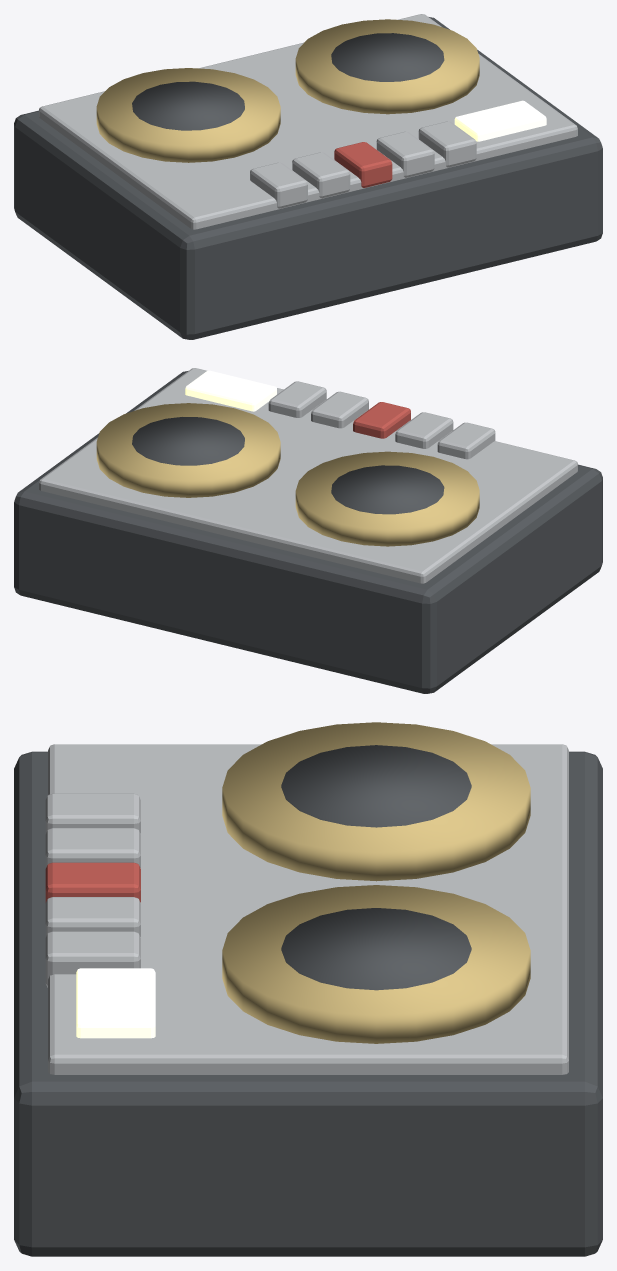
The model's file is tape_recorder.glb.
3 views of the same model, one above another, from view 1: azimuth 30°, elevation 25°; view 2: azimuth 150°, elevation 25°; view 3: azimuth 270°, elevation 25° (orthographic). The views are drawn at different scales.
Visible parts, largest first — view 1: DeckChassis, FacePlate, Reel_0.085, Reel_-0.085, TapeHub_-0.085, TapeHub_0.085, VUMeter, Key_1, Key_3, Key_2, Key_4, Key_0; view 2: DeckChassis, FacePlate, Reel_-0.085, Reel_0.085, TapeHub_-0.085, TapeHub_0.085, VUMeter, Key_0, Key_1, Key_4, Key_3, Key_2; view 3: DeckChassis, FacePlate, Reel_-0.085, Reel_0.085, TapeHub_-0.085, TapeHub_0.085, VUMeter, Key_4, Key_1, Key_3, Key_0, Key_2.
Boxes of the visible parts, <box> form: DeckChassis: <box>14,17,602,339</box>; FacePlate: <box>39,14,577,229</box>; Reel_0.085: <box>295,19,479,114</box>; Reel_-0.085: <box>96,68,280,162</box>; TapeHub_-0.085: <box>132,81,244,130</box>; TapeHub_0.085: <box>331,33,444,81</box>; VUMeter: <box>454,100,546,141</box>; Key_1: <box>292,152,350,198</box>; Key_3: <box>376,131,434,177</box>; Key_2: <box>334,142,392,187</box>; Key_4: <box>418,121,476,167</box>; Key_0: <box>250,162,307,208</box>; DeckChassis: <box>14,371,602,693</box>; FacePlate: <box>39,368,577,583</box>; Reel_-0.085: <box>295,451,479,546</box>; Reel_0.085: <box>96,403,280,497</box>; TapeHub_-0.085: <box>331,465,444,514</box>; TapeHub_0.085: <box>132,417,244,465</box>; VUMeter: <box>185,370,276,411</box>; Key_0: <box>437,422,495,459</box>; Key_1: <box>395,412,453,448</box>; Key_4: <box>268,381,326,417</box>; Key_3: <box>311,391,368,428</box>; Key_2: <box>353,402,410,438</box>; DeckChassis: <box>14,751,602,1256</box>; FacePlate: <box>48,744,568,1074</box>; Reel_-0.085: <box>222,722,530,881</box>; Reel_0.085: <box>222,885,530,1043</box>; TapeHub_-0.085: <box>281,745,471,827</box>; TapeHub_0.085: <box>281,908,471,990</box>; VUMeter: <box>76,968,155,1038</box>; Key_4: <box>45,931,140,987</box>; Key_1: <box>45,828,140,868</box>; Key_3: <box>45,897,140,937</box>; Key_0: <box>45,793,140,833</box>; Key_2: <box>45,862,140,902</box>.
Size of the model in its own units: 0.36 by 0.1095 by 0.26.
